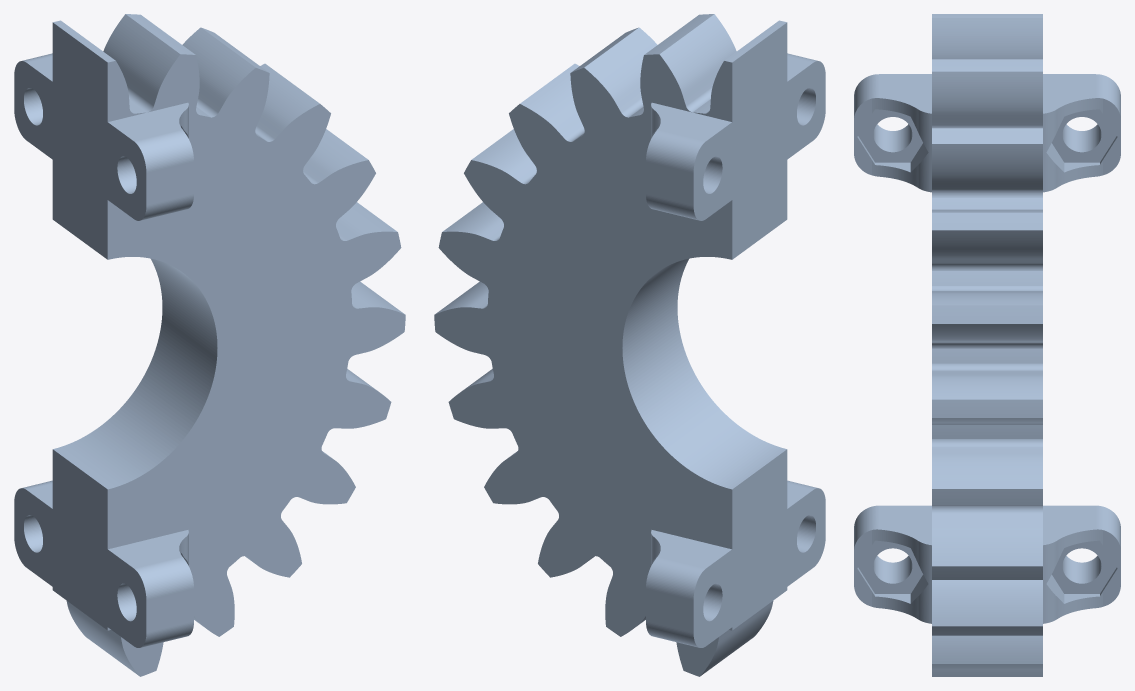
Rendered from polovina_zupcanika_za_korman_1.obj.
3 renders of one model, left to right at view 1: azimuth 30°, elevation 25°; view 2: azimuth 150°, elevation 25°; view 3: azimuth 270°, elevation 25°, orthographic.
Visible parts, largest first — view 1: zupcanik1___Copy; view 2: zupcanik1___Copy; view 3: zupcanik1___Copy.
Boxes of the visible parts, x1=… form: zupcanik1___Copy: x1=14, y1=14, x2=405, y2=676; zupcanik1___Copy: x1=434, y1=14, x2=825, y2=676; zupcanik1___Copy: x1=854, y1=14, x2=1120, y2=676.
Size of the model in its own units: 31.24 by 62.35 by 24.
